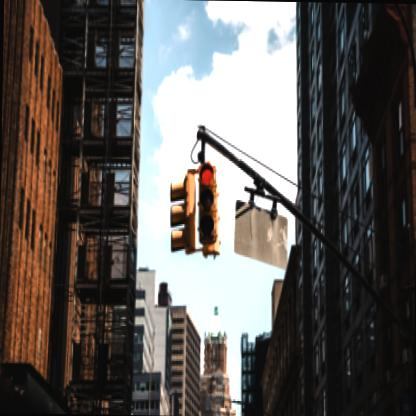trafficlight: (170, 158, 219, 256)
